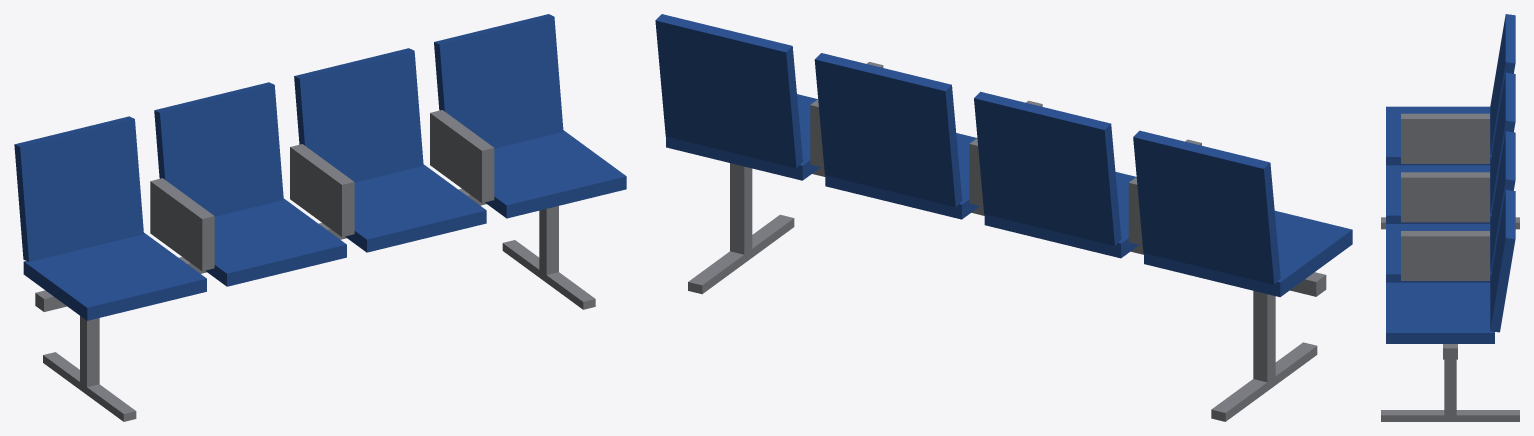
File: prop_waiting-chairs.8228c700e334.glb
3 views of the same model, side by side, from view 1: azimuth 30°, elevation 25°; view 2: azimuth 150°, elevation 25°; view 3: azimuth 270°, elevation 25° (orthographic). The views are drawn at different scales.
Visible parts, largest first — view 1: body; view 2: body; view 3: body.
Boxes of the visible parts, box(x1,y1,x2,y2) form: body: box(14, 14, 626, 421); body: box(655, 14, 1352, 421); body: box(1381, 14, 1519, 421).
Size of the model in its own units: 2.24 by 0.8782 by 0.56.
